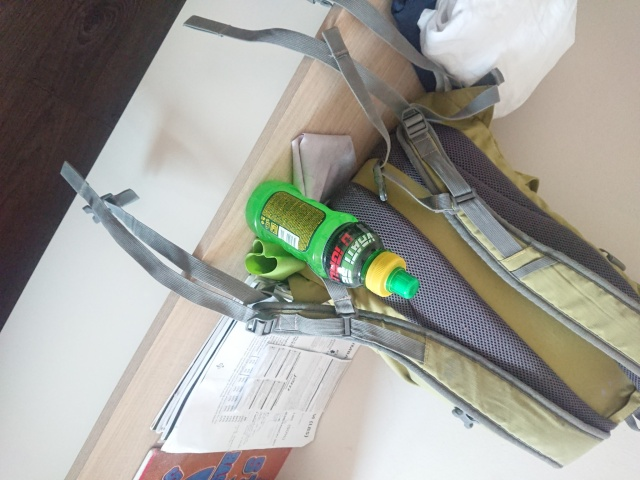Vindi Iso Sport Lemon-Grapefruit 500mL: (242, 178, 422, 302)
